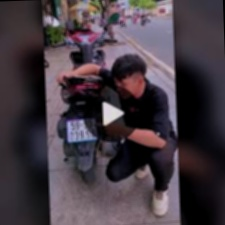Bien-so: (66, 114, 95, 139)
